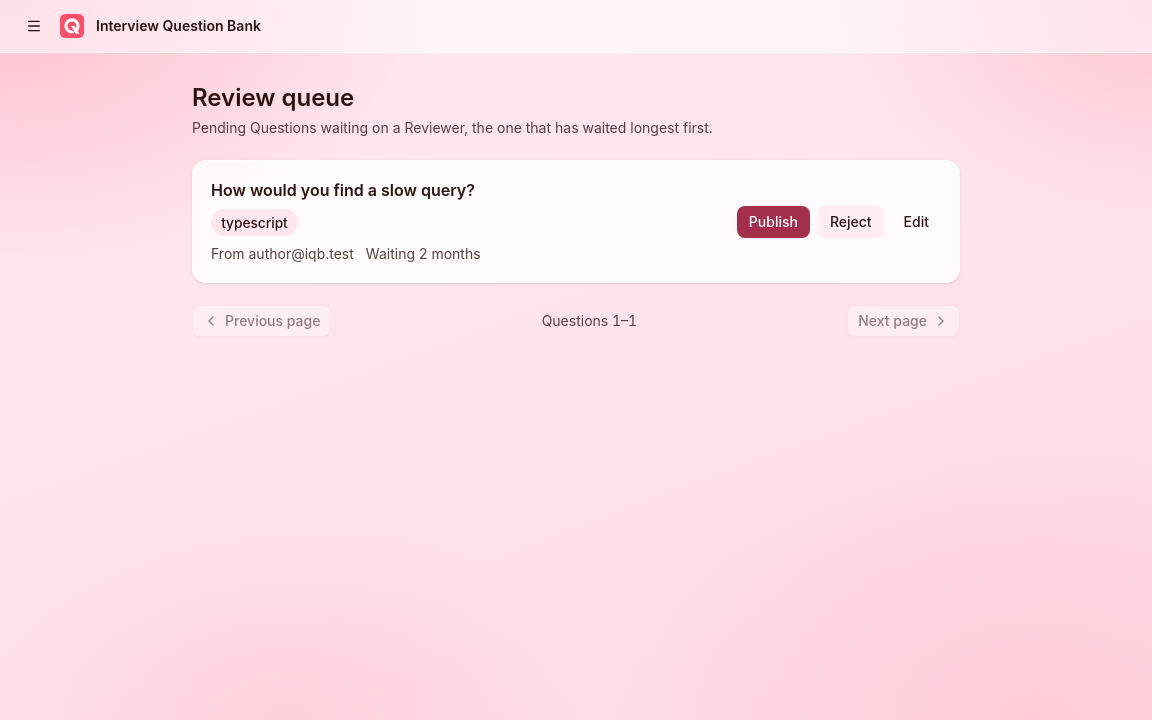
Test: a Near-Duplicate found at publication › is shown with each Near-Duplicate as a link to the Question it names
This screenshot has width=1152, height=720.
Click the button "Publish".
click(773, 222)  # box [737,206,810,238]
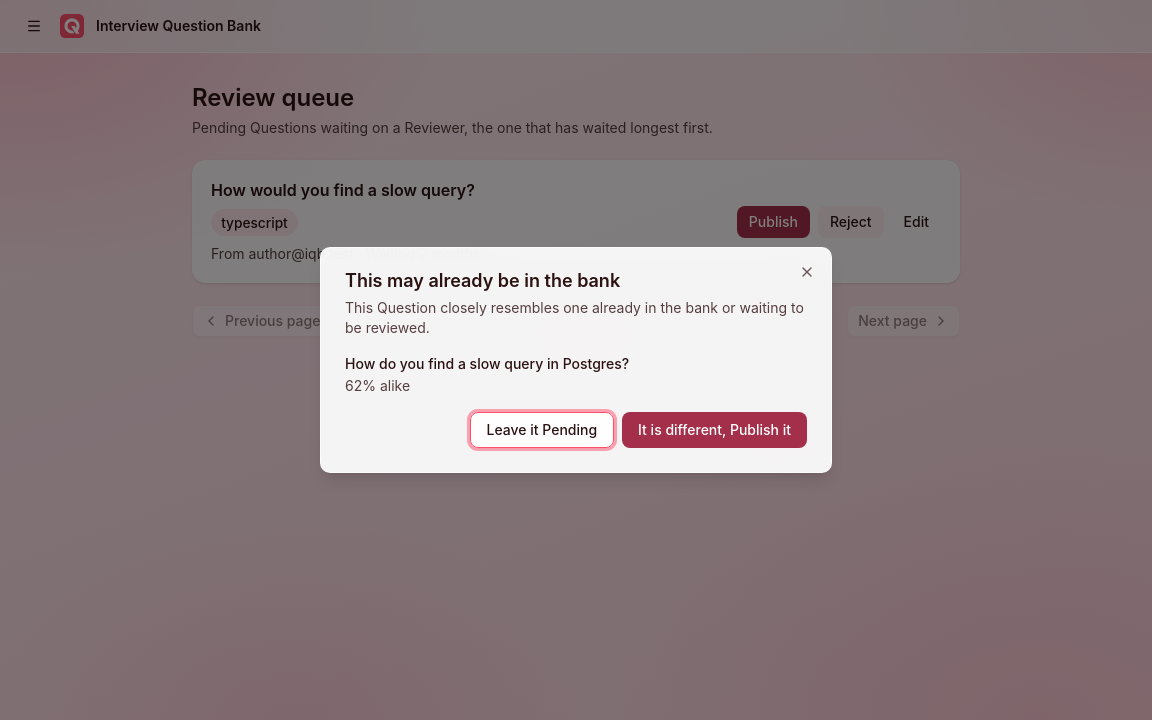
Expected: the text "This Question closely resembles one already in the bank or waiting to be reviewed." is shown, [345,299,804,336]
Expected: the text "62% alike" is shown, [345,377,410,394]
